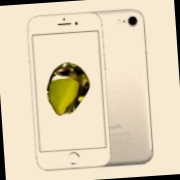iphone: (72, 12, 150, 168)
